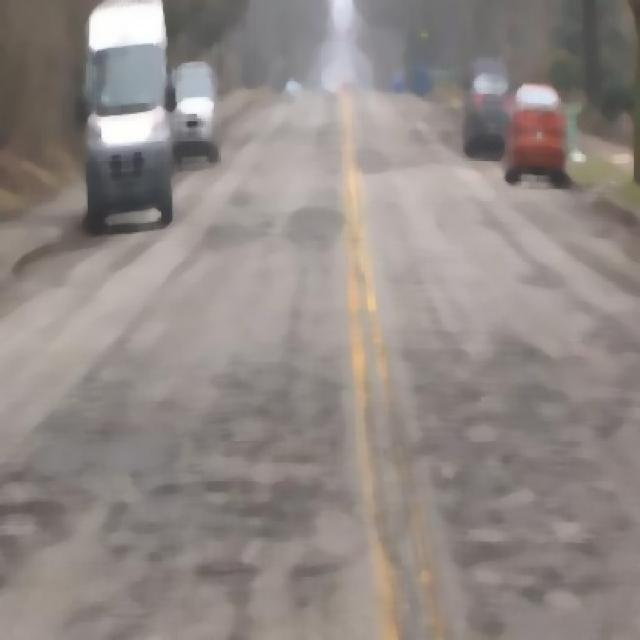Pothole: (0, 402, 55, 575), (200, 396, 266, 466), (558, 398, 619, 462), (192, 546, 262, 594), (512, 572, 554, 625), (412, 361, 441, 413), (494, 445, 518, 478)
